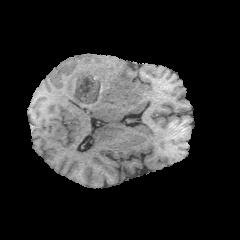glioma: (57, 56, 150, 109)
